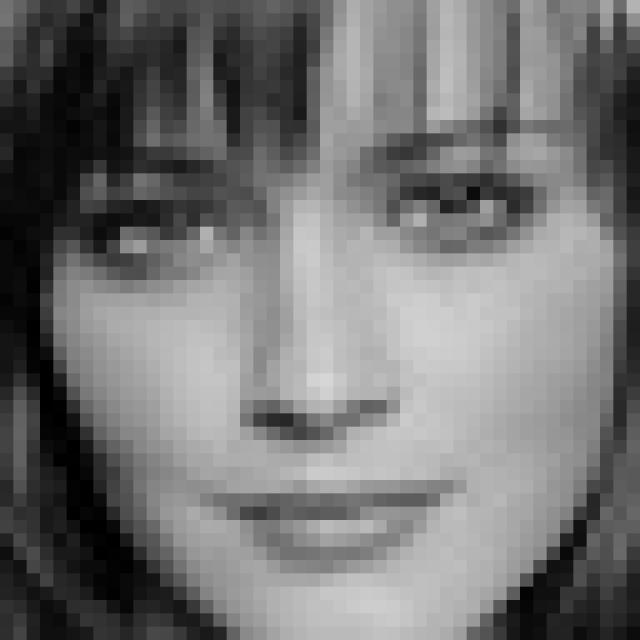neutral: (67, 104, 583, 581)
